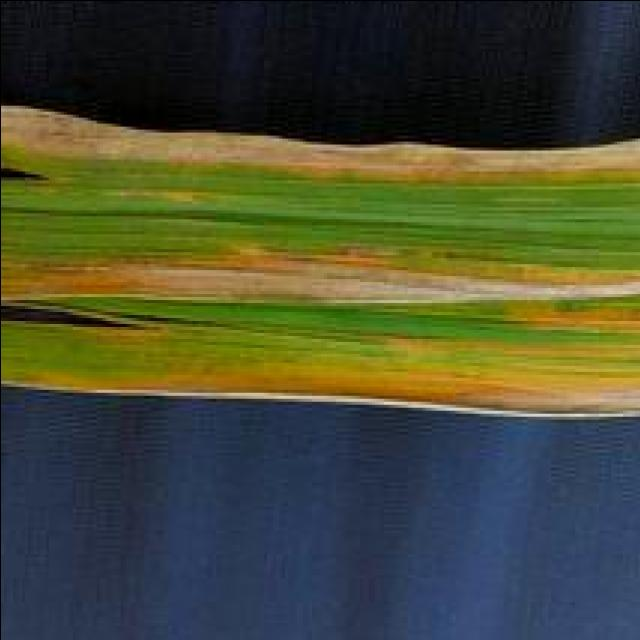Bacterial_Leaf_Blight: (0, 132, 640, 416)
